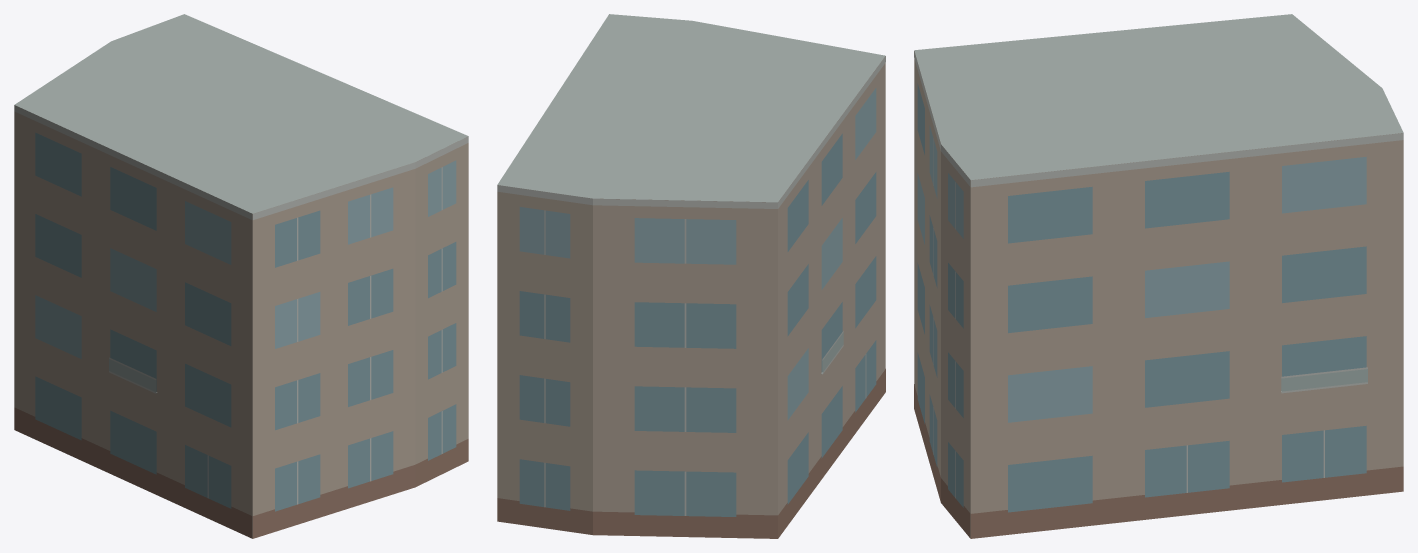
File: survey-upis-32668800.glb
3 renders of one model, left to right at view 1: azimuth 30°, elevation 25°; view 2: azimuth 150°, elevation 25°; view 3: azimuth 270°, elevation 25°, orthographic. The views are drawn at different scales.
Parts seen in each view (by area): view 1: survey-upis-32668800.tmp; view 2: survey-upis-32668800.tmp; view 3: survey-upis-32668800.tmp.
Boxes of the visible parts, x1=… form: survey-upis-32668800.tmp: x1=14, y1=14, x2=468, y2=538; survey-upis-32668800.tmp: x1=497, y1=14, x2=885, y2=538; survey-upis-32668800.tmp: x1=914, y1=14, x2=1403, y2=538.
Size of the model in its own units: 12.13 by 12.2 by 15.1.
